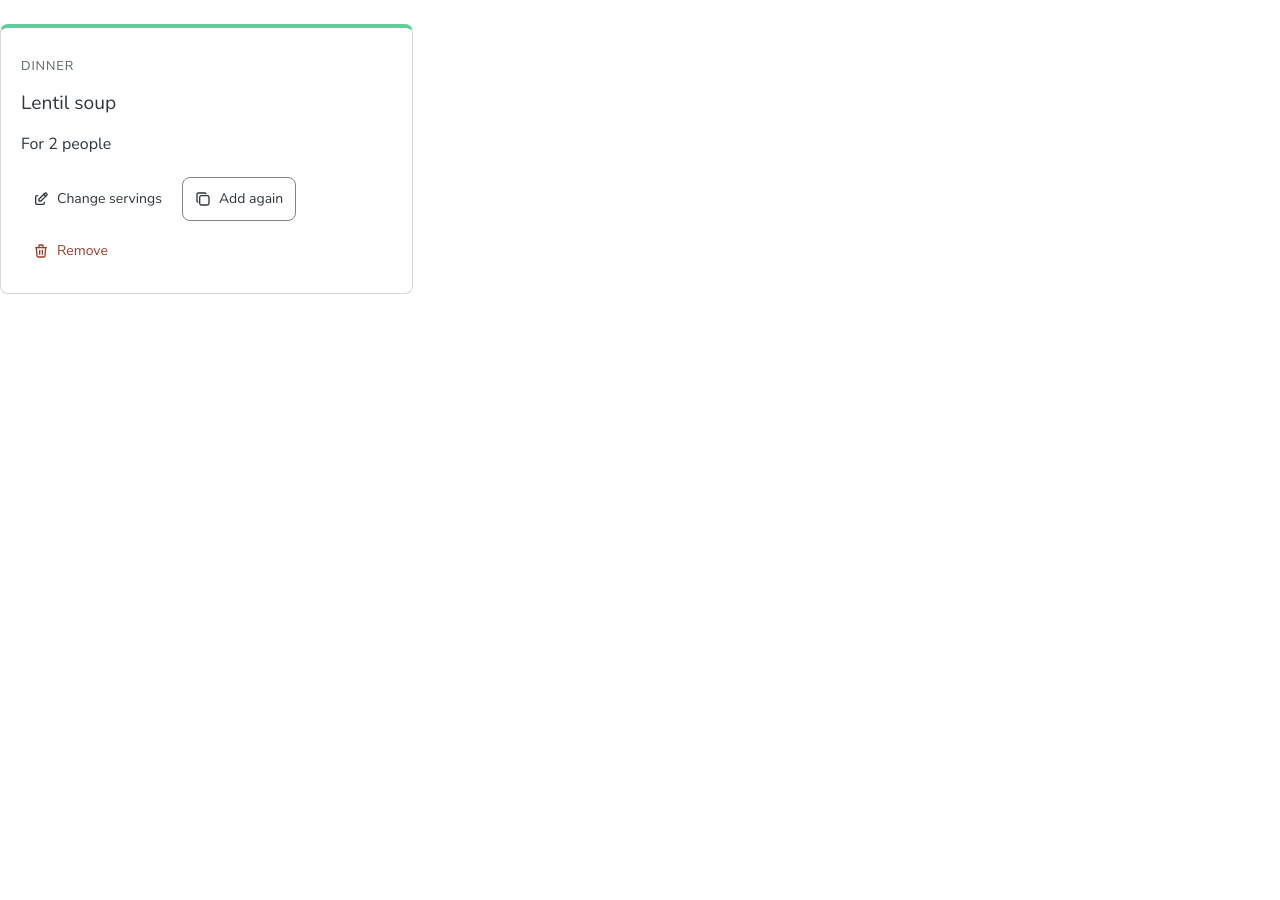
Test: provides serving steppers bounded to valid positive integers
Click the button "Change servings". click: (98, 199)
box: [21,177,174,221]
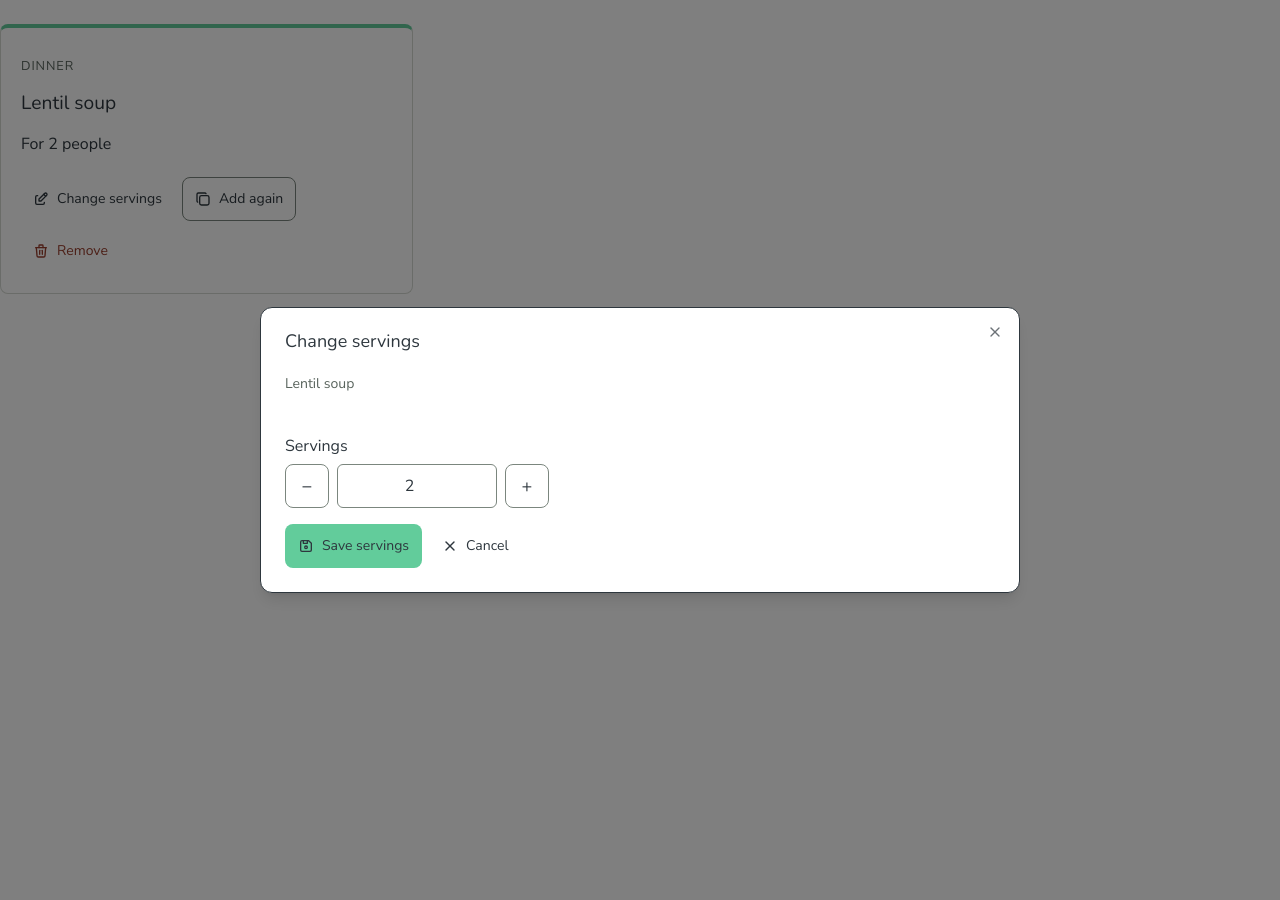
Click the button named "Decrease servings". click: (307, 486)
box: [285,464,329,508]
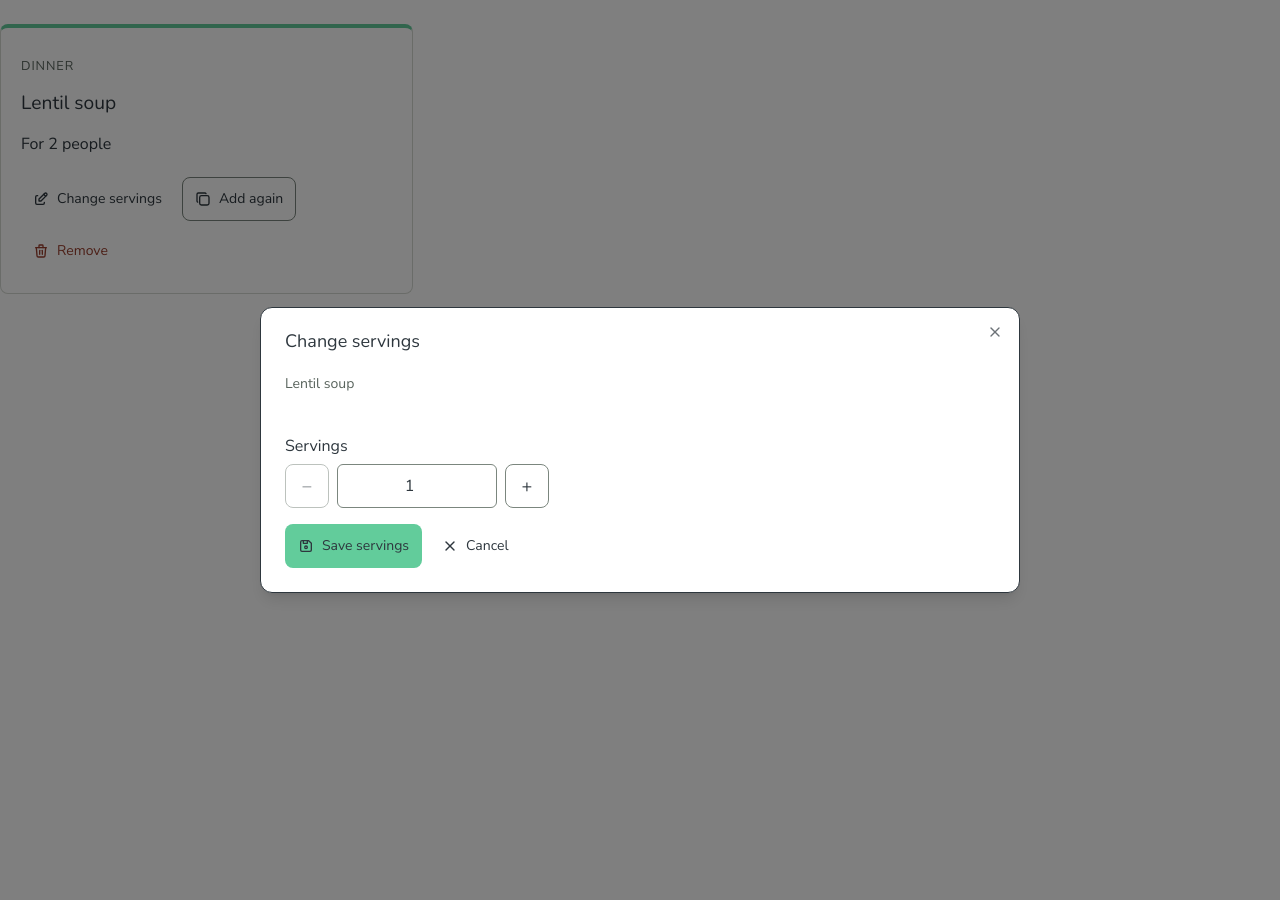
Expected: the number field labelled "Servings" holds "1", [337,464,497,508]
Click the button named "Increase servings". click: (527, 486)
box: [505,464,549,508]
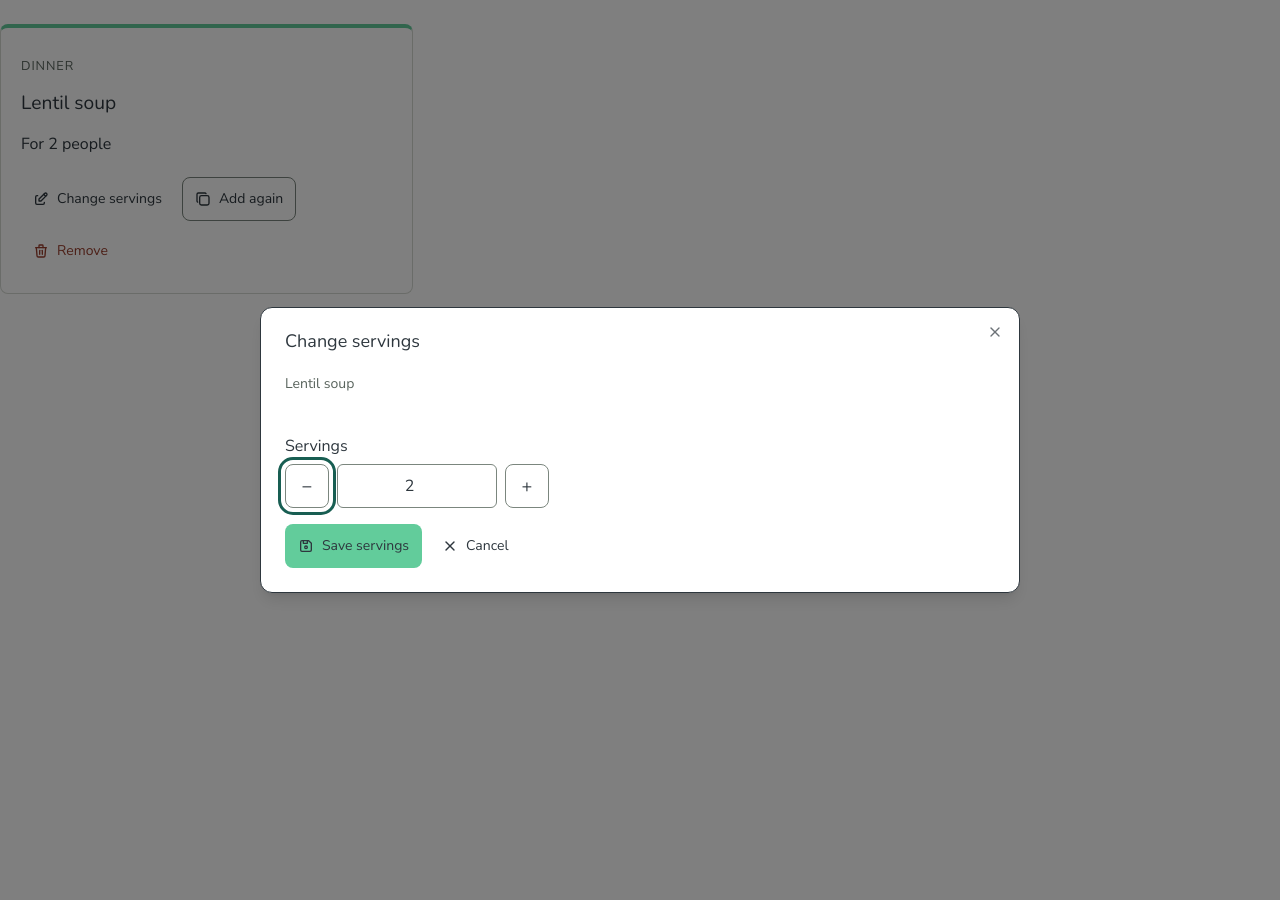
Expected: the number field labelled "Servings" holds "2", [337,464,497,508]
